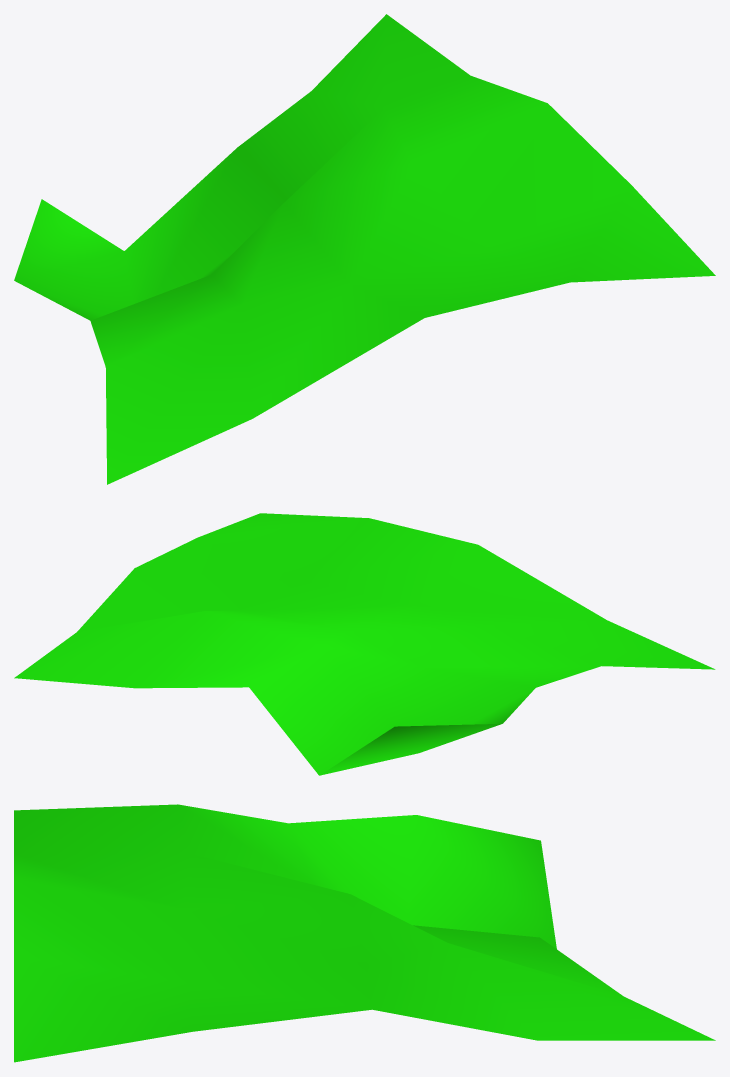
The model's file is lechuga.glb.
The picture shows the model from 3 angles, top to bottom: view 1: azimuth 30°, elevation 25°; view 2: azimuth 150°, elevation 25°; view 3: azimuth 270°, elevation 25°; orthographic projection. The views are drawn at different scales.
Parts seen in each view (by area): view 1: Plano.002; view 2: Plano.002; view 3: Plano.002.
Part boxes in pixels (bbox=[...]): Plano.002: bbox=[14, 14, 715, 484]; Plano.002: bbox=[14, 513, 715, 775]; Plano.002: bbox=[14, 804, 715, 1062].
Size of the model in its own units: 1.25 by 0.2734 by 1.17.
